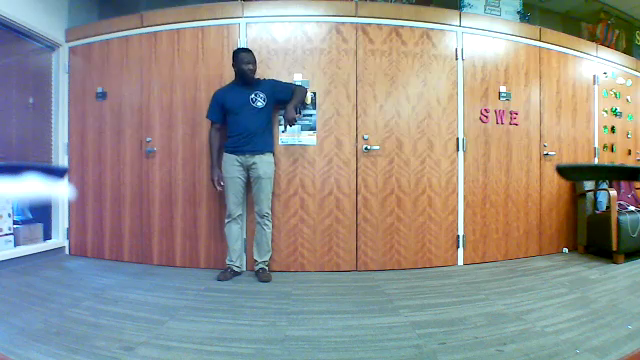down: (278, 100, 301, 139)
